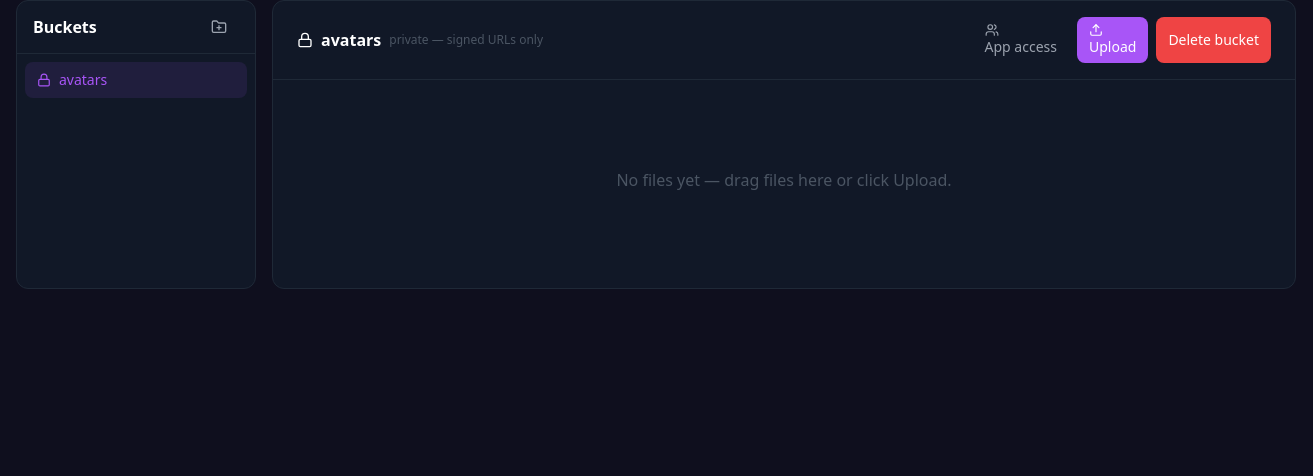
Test: Storage — app access (EXC-560) › opens the bucket's rules when the feature is on
Click the button "App access". click: (1021, 40)
box: left=973, top=17, right=1069, bottom=63
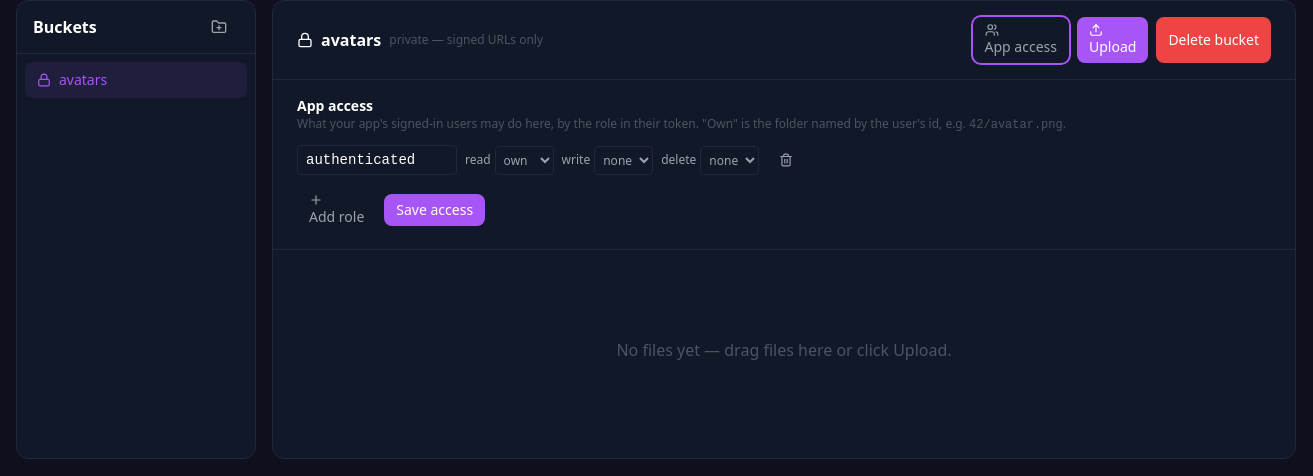
Result: the dropdown named "authenticated read" shows "own" at left=495, top=146, right=554, bottom=174
